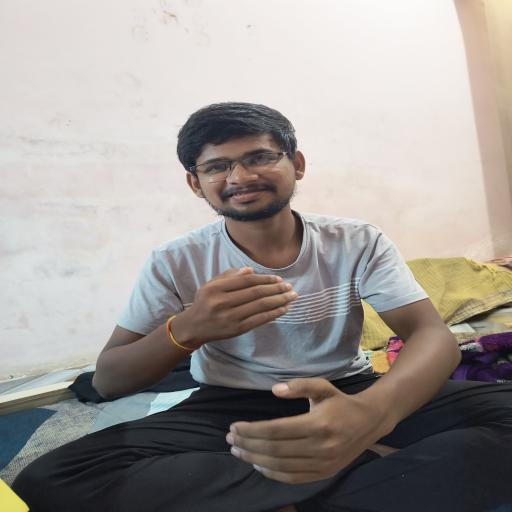Good: (122, 250, 408, 494)
